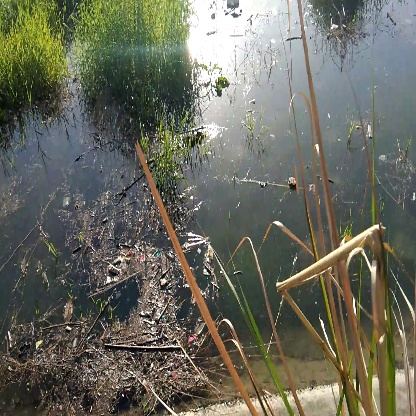branch: (102, 330, 181, 360)
